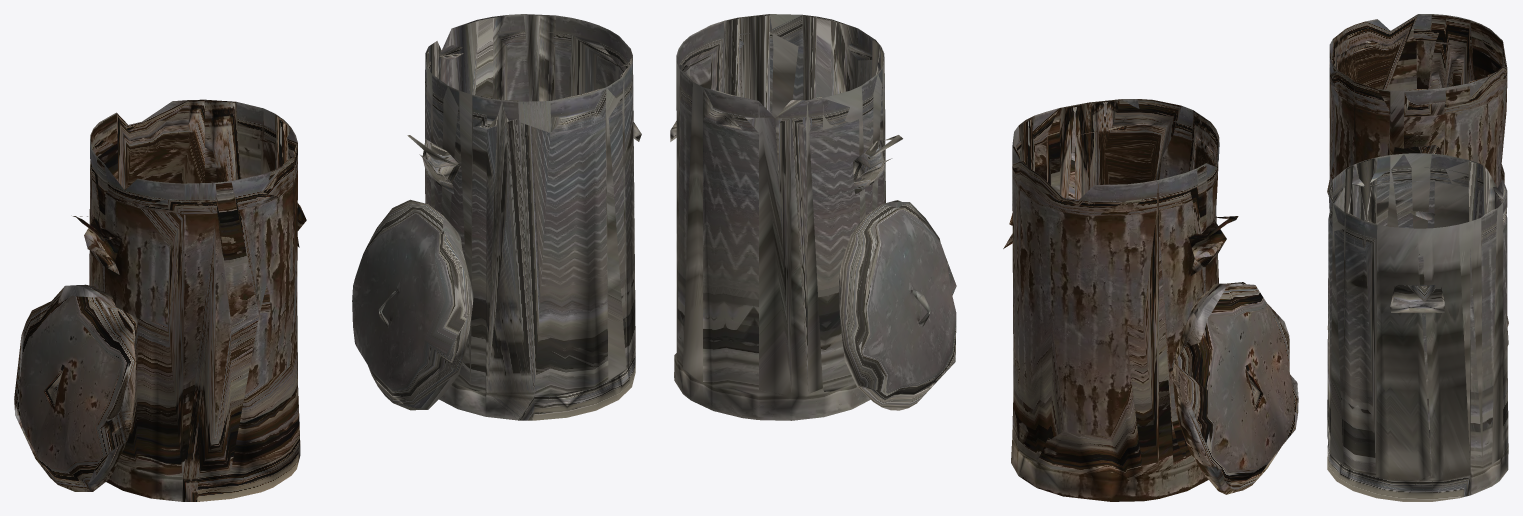
File: TrashCan.glb
The picture shows the model from 3 angles, left to right: view 1: azimuth 30°, elevation 25°; view 2: azimuth 150°, elevation 25°; view 3: azimuth 270°, elevation 25°; orthographic projection. The views are drawn at different scales.
Parts seen in each view (by area): view 1: metal_trash_can_handle_left, metal_trash_can_rust; view 2: metal_trash_can_handle_left, metal_trash_can_rust; view 3: metal_trash_can_handle_left, metal_trash_can_rust.
Boxes of the visible parts, x1,y1,x2,y2 form: metal_trash_can_handle_left: (352, 14, 641, 420); metal_trash_can_rust: (14, 99, 306, 501); metal_trash_can_handle_left: (670, 14, 956, 420); metal_trash_can_rust: (1003, 99, 1298, 501); metal_trash_can_handle_left: (1327, 153, 1508, 501); metal_trash_can_rust: (1327, 14, 1508, 329).
Bounding box in the file's own units: 1.74 × 0.9062 × 0.5474.
2 materials, 2 textured.
